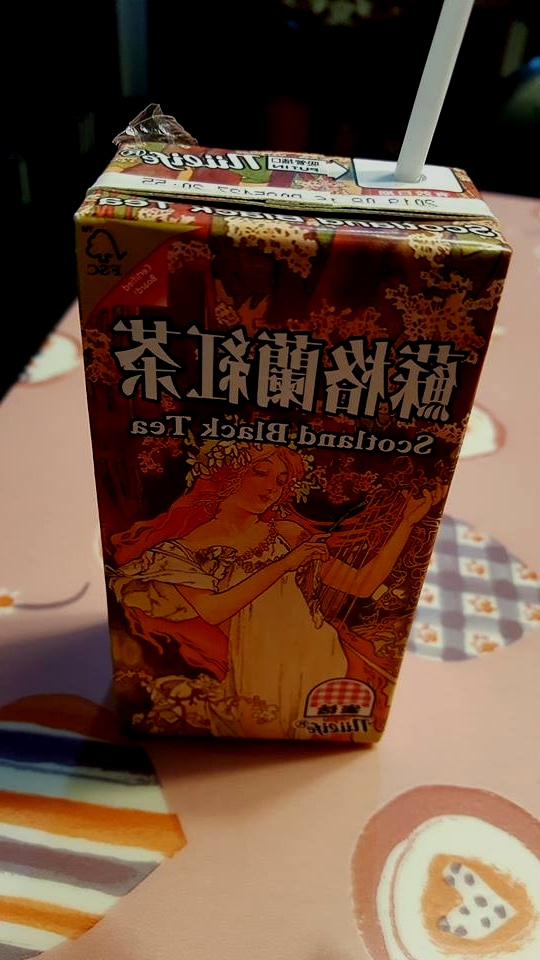鋁箔包: (80, 132, 512, 749)
